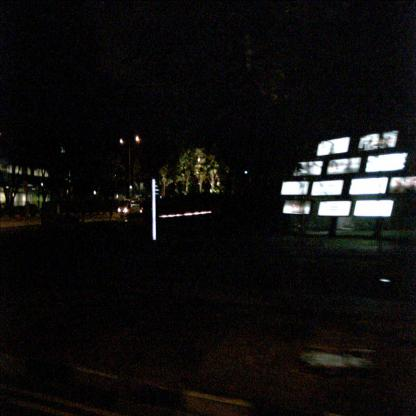vehicle-truck: (117, 198, 140, 220)
